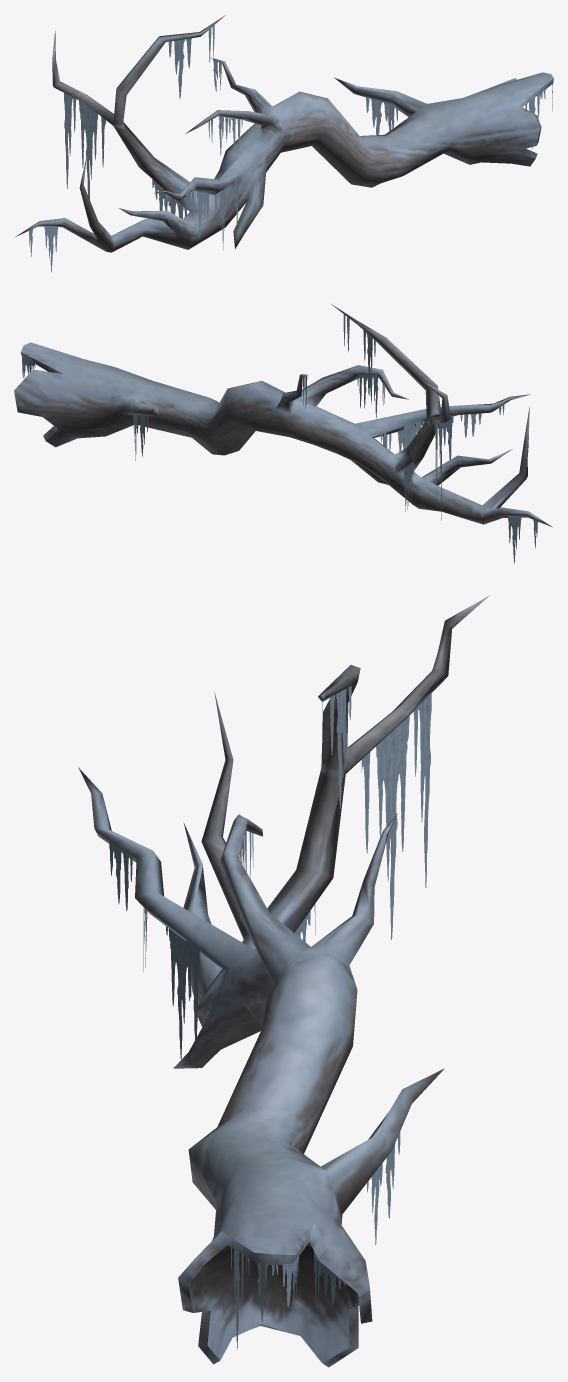
The model's file is rzjd_xuehsu_02.FBX.
The picture shows the model from 3 angles, top to bottom: view 1: azimuth 30°, elevation 25°; view 2: azimuth 150°, elevation 25°; view 3: azimuth 270°, elevation 25°; orthographic projection. The views are drawn at different scales.
Visible parts, largest first — view 1: rzjd_xuehsu_02; view 2: rzjd_xuehsu_02; view 3: rzjd_xuehsu_02.
Boxes of the visible parts, <box> form: rzjd_xuehsu_02: <box>15,15,553,272</box>; rzjd_xuehsu_02: <box>14,304,552,563</box>; rzjd_xuehsu_02: <box>78,595,489,1367</box>.
Size of the model in its own units: 513 by 173 by 198.
